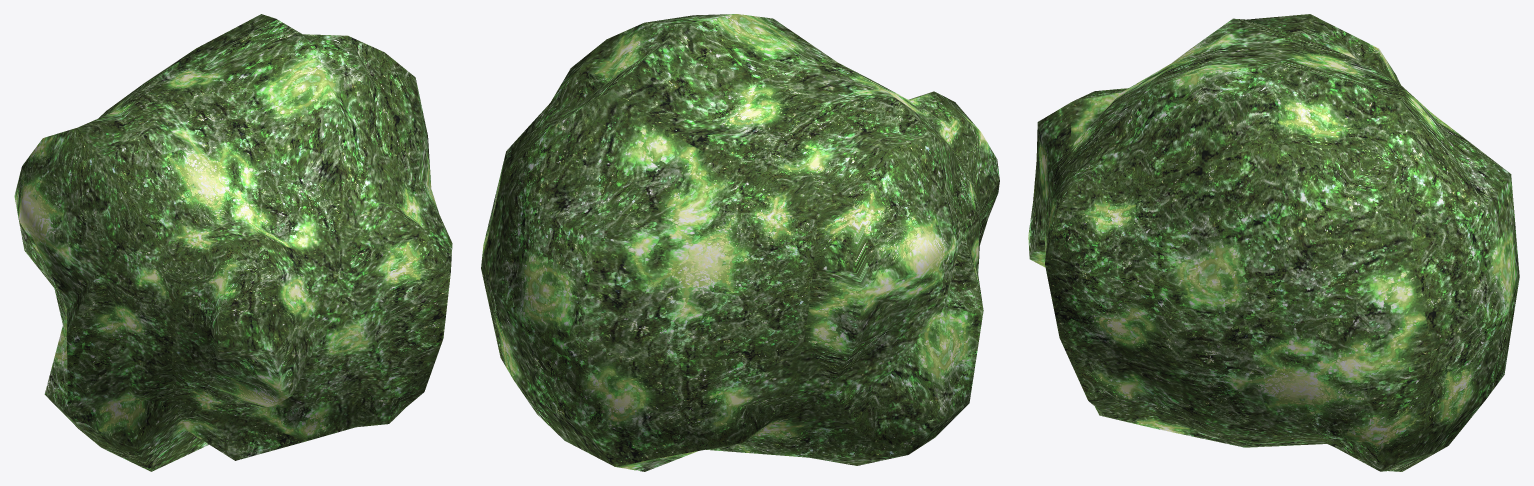
Rendered from asteroid_acid_small_s01_l0.fbx.
3 renders of one model, left to right at view 1: azimuth 30°, elevation 25°; view 2: azimuth 150°, elevation 25°; view 3: azimuth 270°, elevation 25°, orthographic. The views are drawn at different scales.
Parts seen in each view (by area): view 1: mesh_node; view 2: mesh_node; view 3: mesh_node.
Boxes of the visible parts, bbox=[...] form: mesh_node: bbox=[14, 14, 452, 471]; mesh_node: bbox=[481, 14, 999, 471]; mesh_node: bbox=[1028, 14, 1519, 471].
Size of the model in its own units: 26.46 by 23.92 by 26.31.
